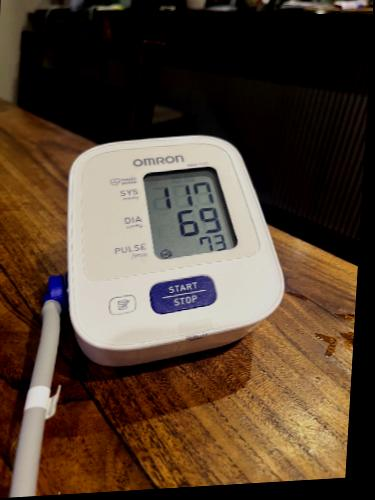bpm: (141, 161, 240, 262)
